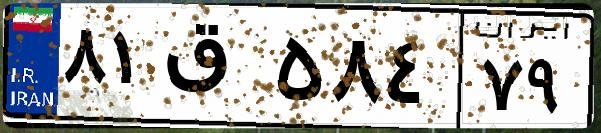1: (110, 28, 158, 98)
4: (385, 28, 445, 110)
5: (270, 28, 330, 110)
7: (475, 38, 525, 113)
8: (330, 28, 385, 110), (57, 26, 110, 100)
9: (525, 38, 570, 115)
ق: (158, 20, 270, 120)
